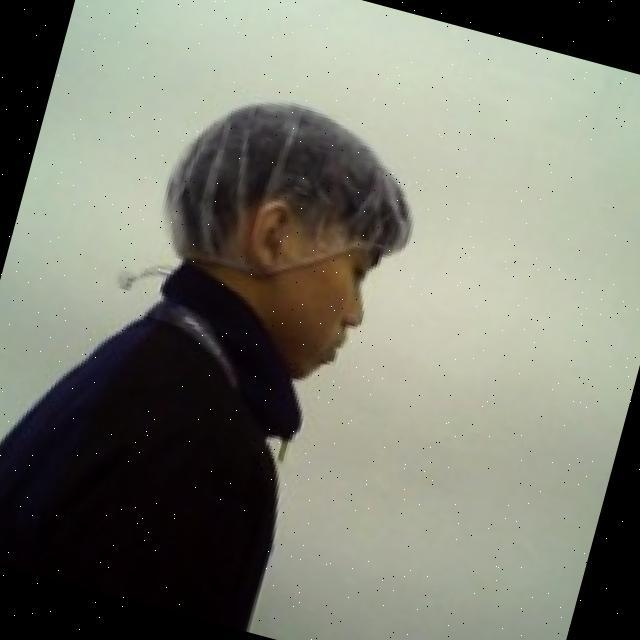gloves: (142, 68, 446, 319)
no_hairnet: (204, 180, 394, 399)
